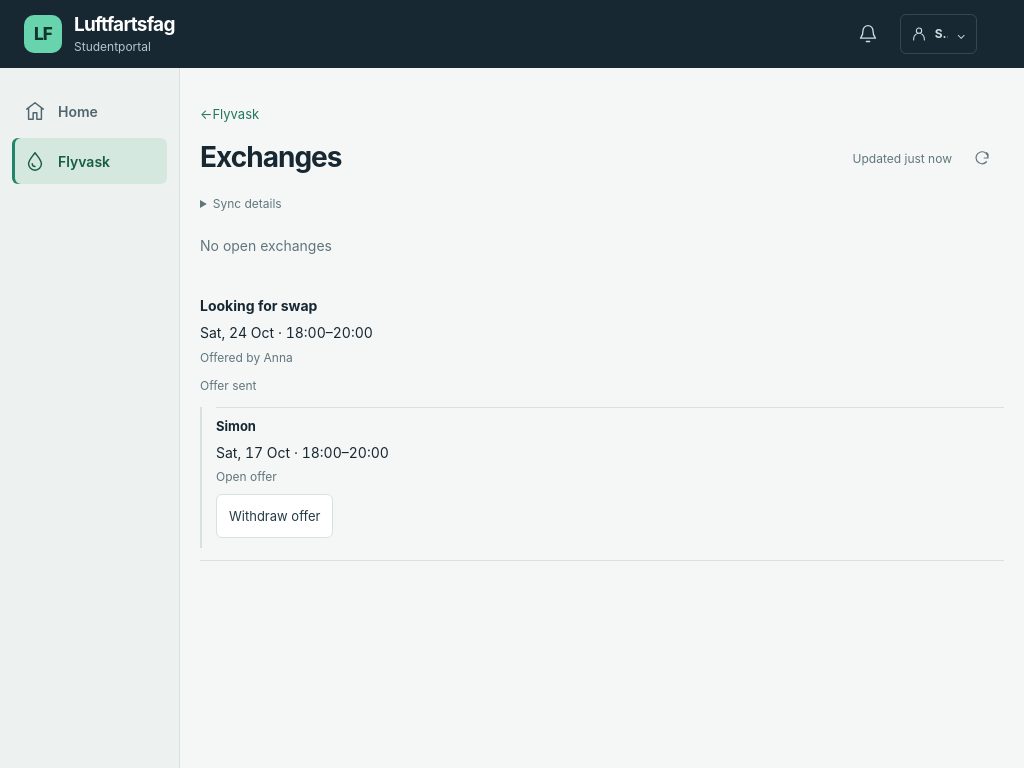
it: Flyvask direct swap workspace › allows withdrawal of own offer and displays safe mutation errors
Click the button "Withdraw offer": coordinates (275, 516) [216,494,333,538]
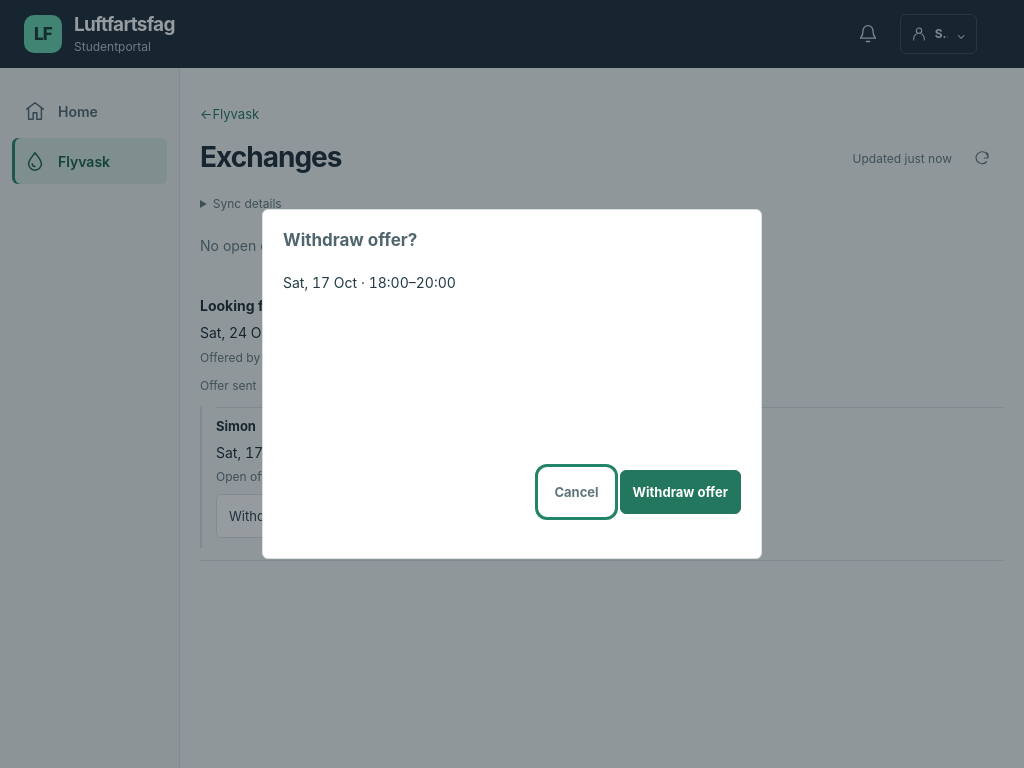
expect the button "Withdraw offer" is shown: met
expect the button "Withdraw offer" is enabled: met
Click the button "Withdraw offer": coordinates (680, 492) [620,470,741,514]
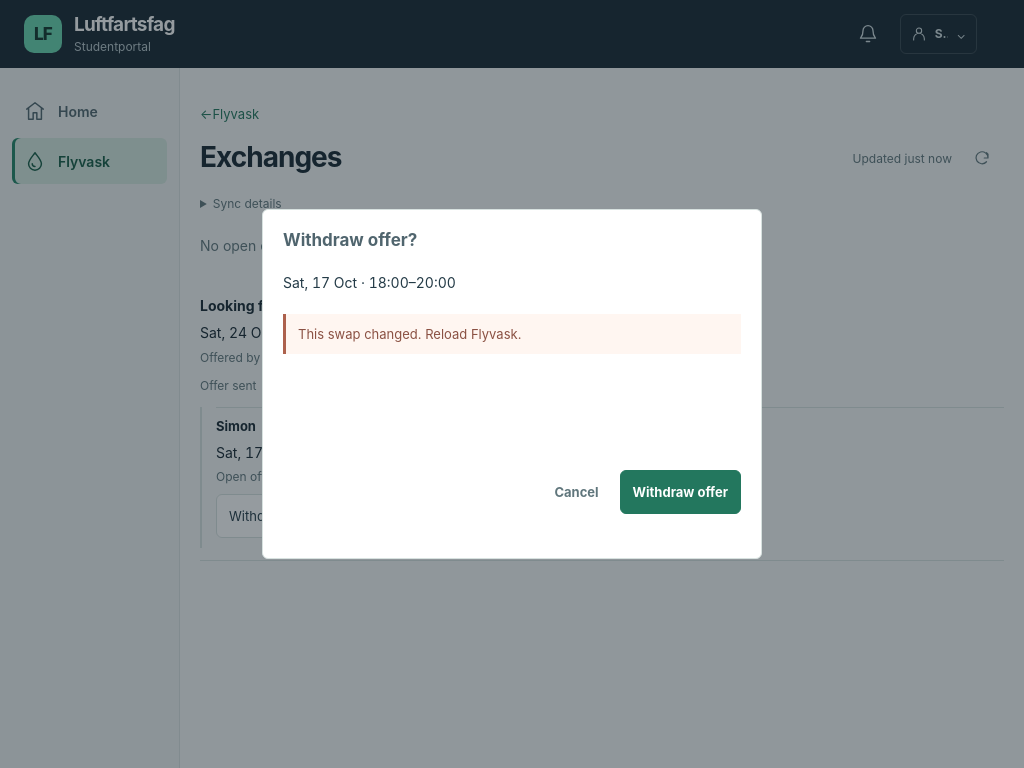
expect the message "This swap changed. Reload Flyvask." is shown: met, box [283,314,741,354]
